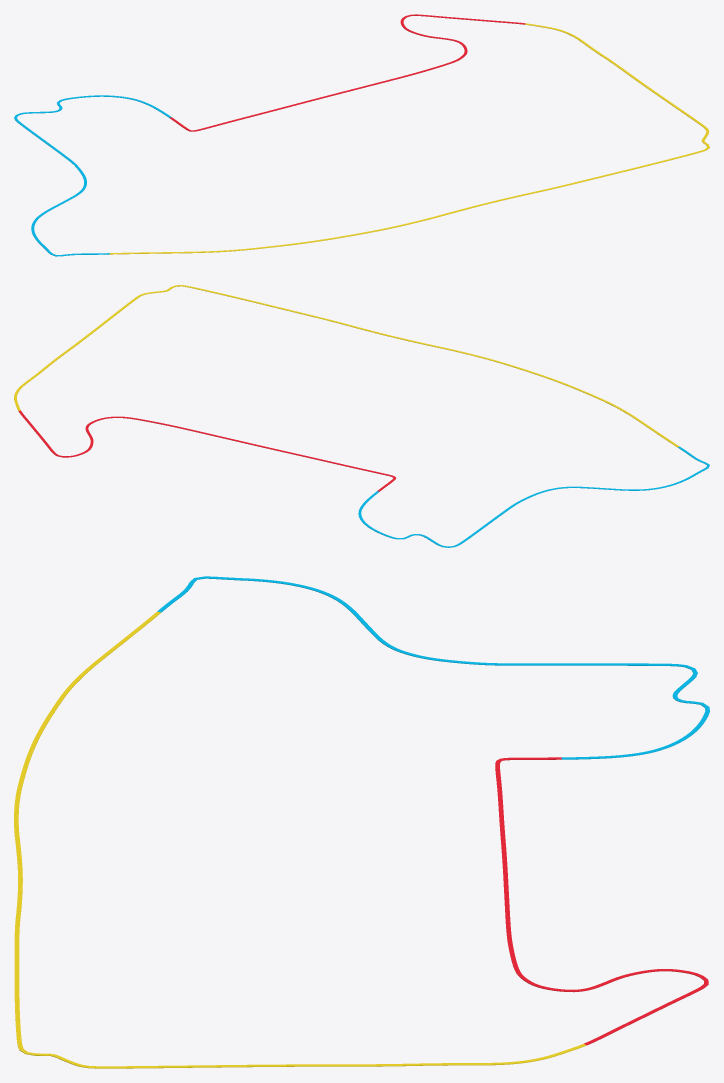
Rendered from LasVegasSectors.glb.
3 renders of one model, top to bottom at view 1: azimuth 30°, elevation 25°; view 2: azimuth 150°, elevation 25°; view 3: azimuth 270°, elevation 25°, orthographic. The views are drawn at different scales.
Parts seen in each view (by area): view 1: SectorStrip_3, SectorStrip_1, SectorStrip_2; view 2: SectorStrip_3, SectorStrip_2, SectorStrip_1; view 3: SectorStrip_3, SectorStrip_2, SectorStrip_1.
Boxes of the visible parts, x1,y1,x2,y2 form: SectorStrip_3: (109,23,709,254); SectorStrip_1: (169,14,525,131); SectorStrip_2: (14,95,171,256); SectorStrip_3: (14,285,679,447); SectorStrip_2: (358,446,709,547); SectorStrip_1: (18,410,395,491); SectorStrip_3: (14,611,586,1068); SectorStrip_2: (157,576,709,759); SectorStrip_1: (495,757,708,1045).
Size of the model in its own units: 16.22 by 0.006 by 9.7.
